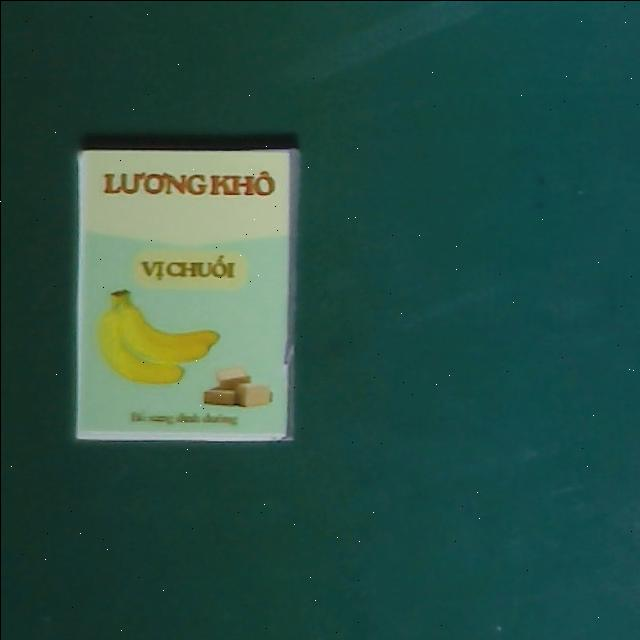chuoi: (70, 144, 300, 443)
